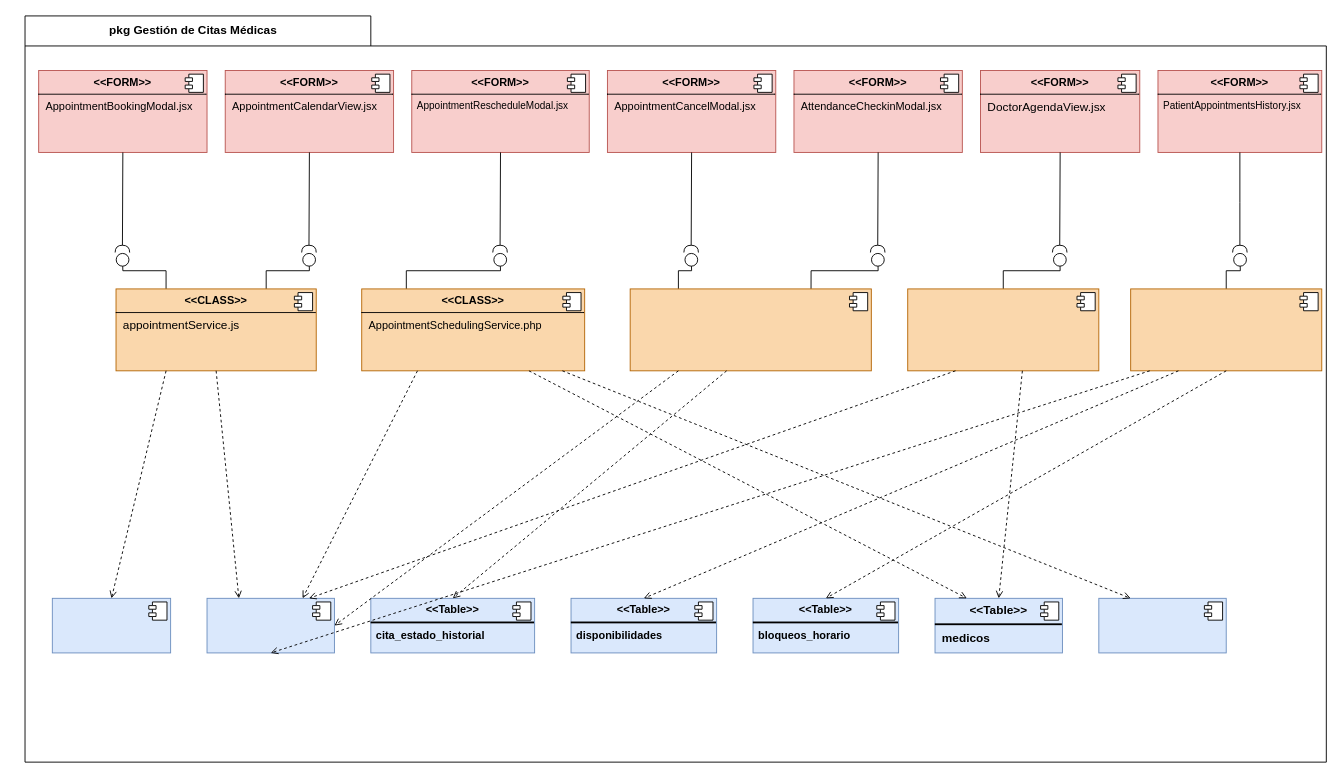
Some shapes in this 1342 by 778 pixel diagram are drawn without their labels. The centre of each missing label's shape, as x and y in pixels:
"<<CLASS>> AppointmentStateMachineService.php" belongs at (x=750, y=329).
"<<CLASS>> doctorAgendaService.js" belongs at (x=1003, y=329).
"<<CLASS>> DoctorAvailabilityService.php" belongs at (x=1226, y=329).
"<<Table>> citas" belongs at (x=270, y=625).
"<<Table>> pacientes" belongs at (x=1162, y=625).
"<<Table>> tipos_cita" belongs at (x=111, y=625).
